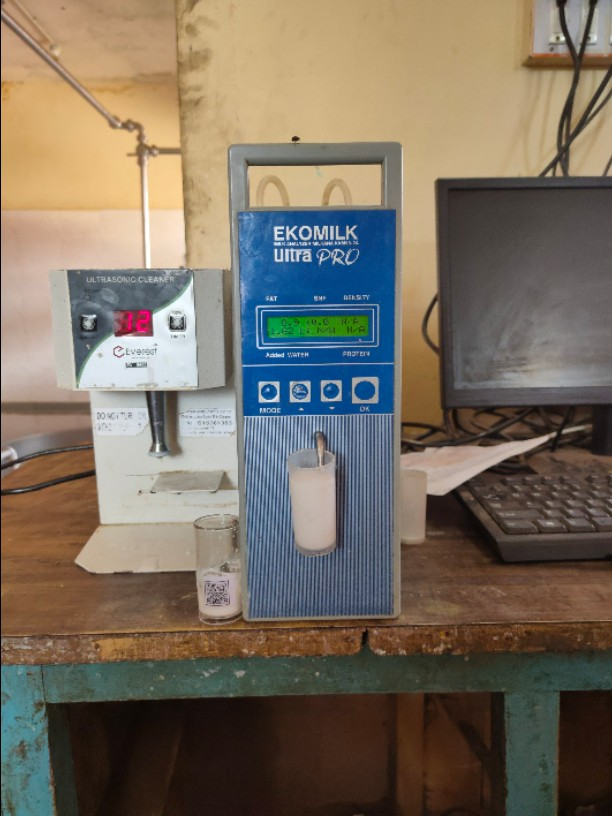lcd: (262, 311, 384, 357)
qr: (194, 577, 237, 608)
